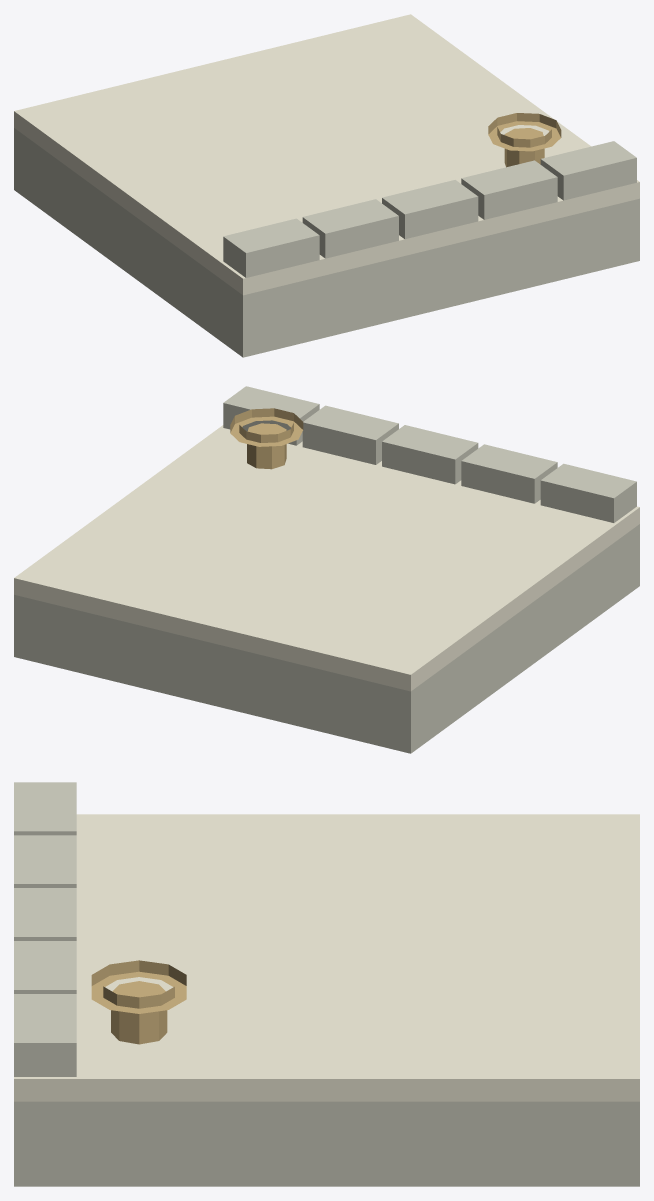
Rendered from tidal-quay-platform-module__260.glb.
3 views of the same model, one above another, from view 1: azimuth 30°, elevation 25°; view 2: azimuth 150°, elevation 25°; view 3: azimuth 270°, elevation 25° (orthographic). The views are drawn at different scales.
Parts seen in each view (by area): view 1: tidal-observatory-quay-platform; view 2: tidal-observatory-quay-platform; view 3: tidal-observatory-quay-platform.
Part boxes in pixels (box(x1,y1,x2,y2)): tidal-observatory-quay-platform: box(14, 14, 639, 357); tidal-observatory-quay-platform: box(14, 386, 639, 753); tidal-observatory-quay-platform: box(14, 782, 639, 1186).
Size of the model in its own units: 2 by 0.56 by 2.
